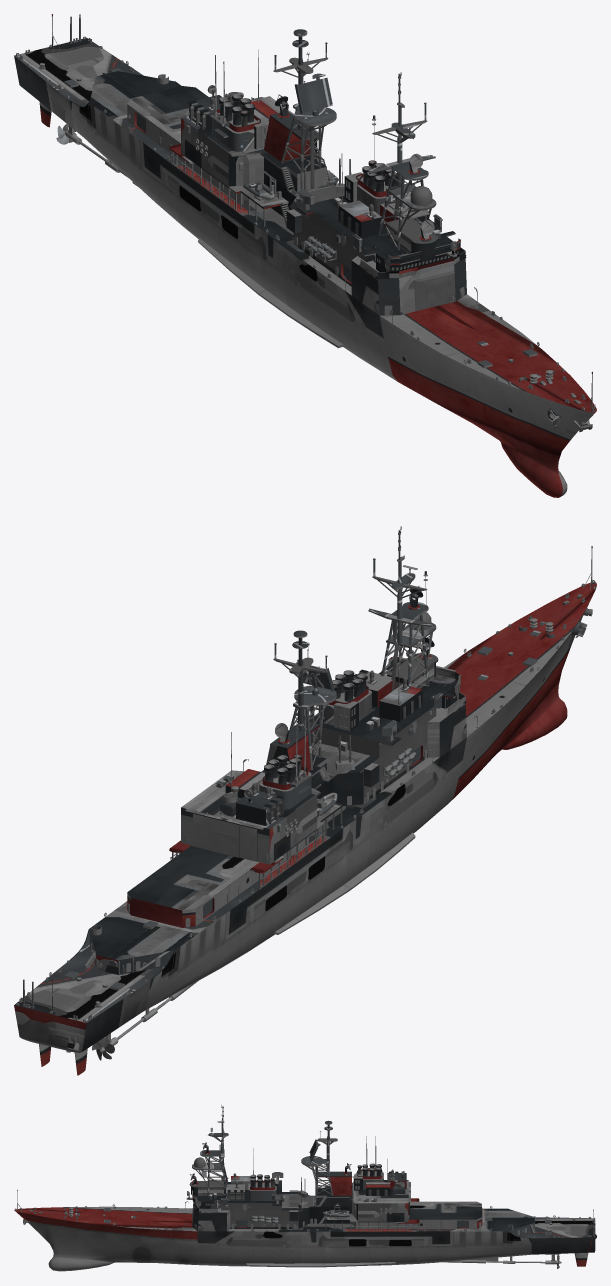
Rendered from jljqzj.gltf.
3 views of the same model, one above another, from view 1: azimuth 30°, elevation 25°; view 2: azimuth 150°, elevation 25°; view 3: azimuth 270°, elevation 25° (orthographic). The views are drawn at different scales.
Parts seen in each view (by area): view 1: JLJ_QZJ; view 2: JLJ_QZJ; view 3: JLJ_QZJ.
Boxes of the visible parts, x1,y1,x2,y2 form: JLJ_QZJ: (14,14,596,497); JLJ_QZJ: (14,526,596,1075); JLJ_QZJ: (14,1104,596,1271).
Bounding box in the file's own units: 2.05 × 6.35 × 20.21.
Materials: 1 (1 with a texture image).
